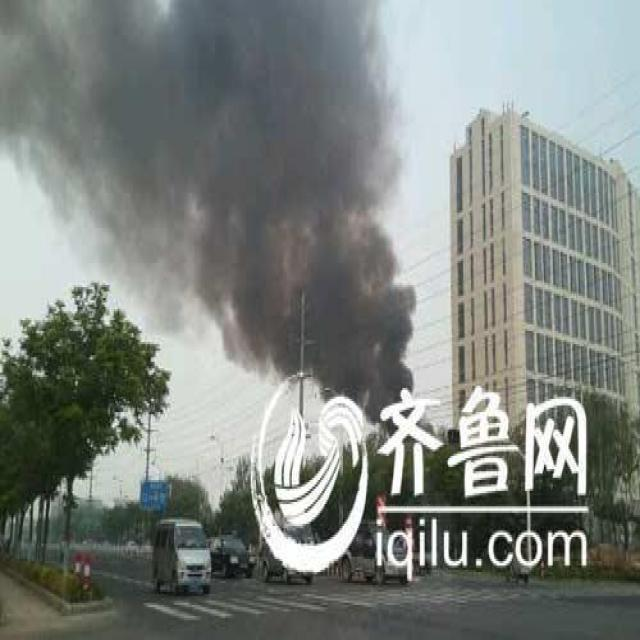smoke: (0, 2, 416, 418)
